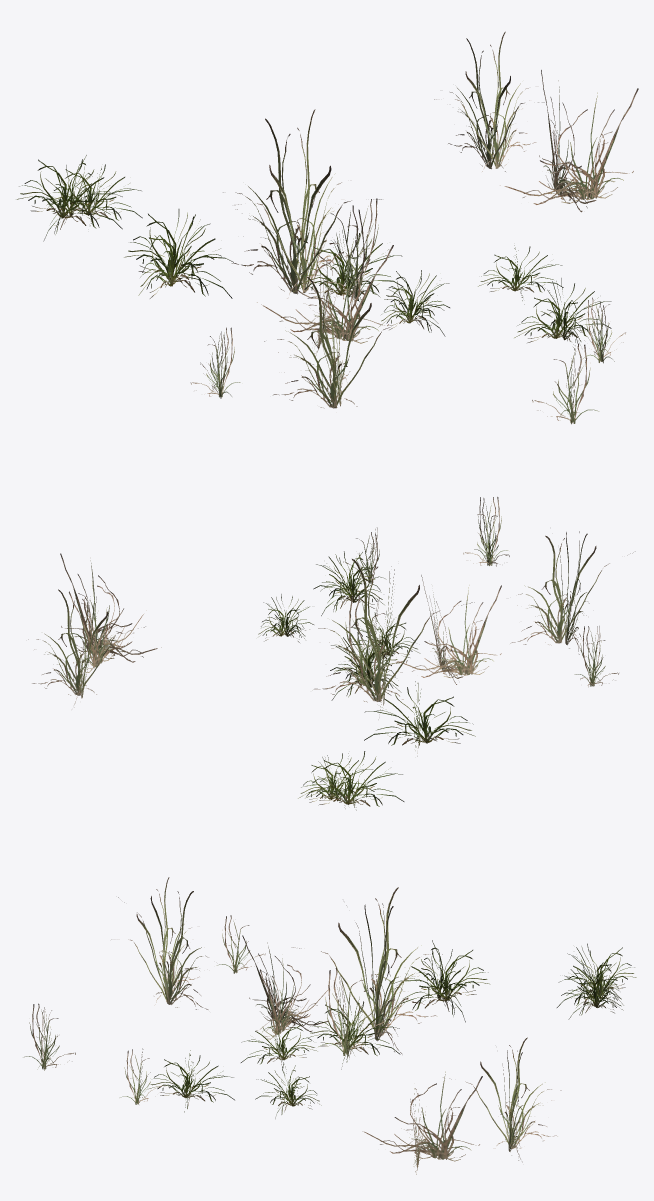
File: field.glb
3 renders of one model, top to bottom at view 1: azimuth 30°, elevation 25°; view 2: azimuth 150°, elevation 25°; view 3: azimuth 270°, elevation 25°, orthographic. The views are drawn at different scales.
Parts seen in each view (by area): view 1: field; view 2: field; view 3: field.
Boxes of the visible parts, x1,y1,x2,y2 form: field: [16, 31, 638, 424]; field: [28, 497, 635, 810]; field: [23, 877, 636, 1174].
Size of the model in its own units: 2.67 by 0.806 by 3.14.
Materials: 1 (1 with a texture image).
